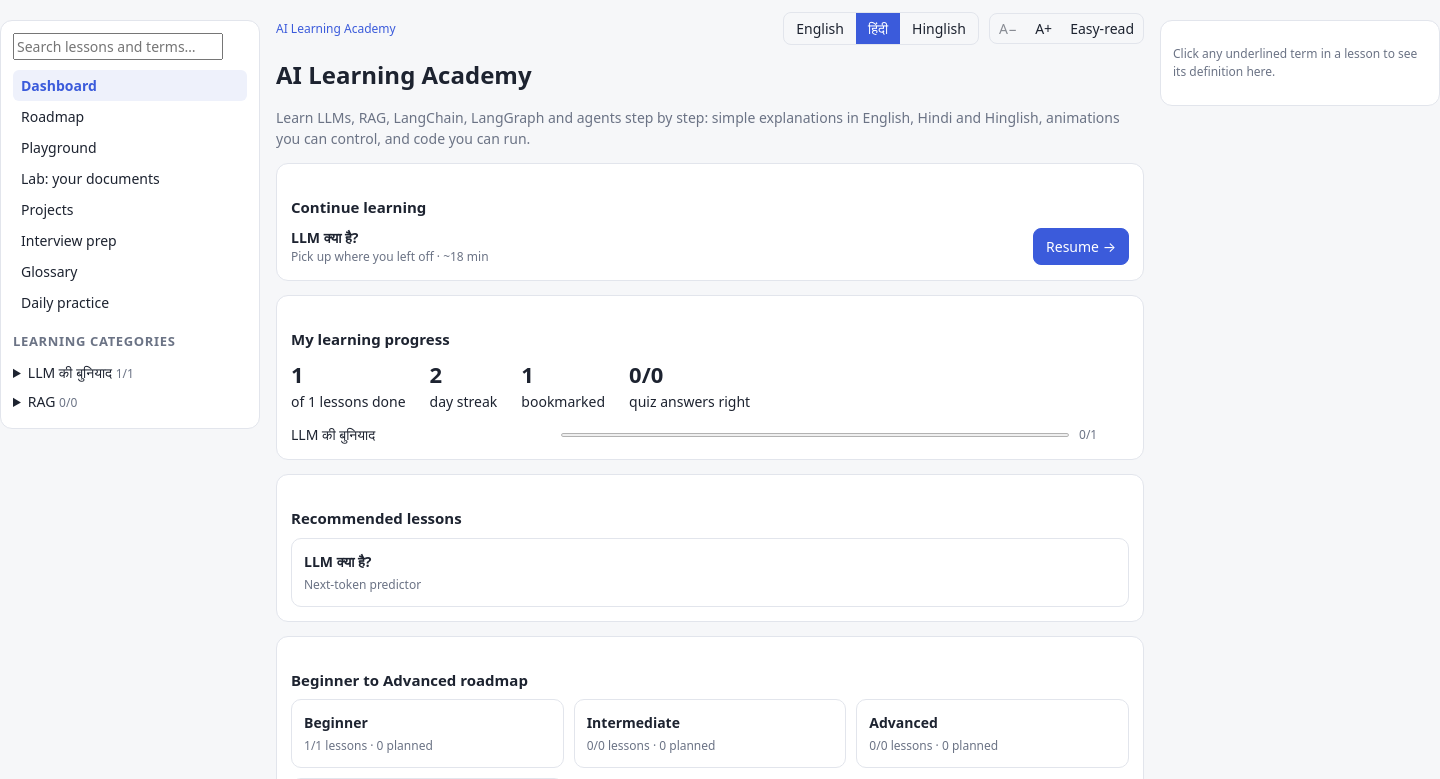
Scenario: Academy › remembers the chosen language and the lesson list reflects completion
Expected: the heading "AI Learning Academy" is shown, 276,58 -> 532,91
Click the heading "LLM की बुनियाद 1/1". click: (81, 372)
box: 28,362 -> 134,382
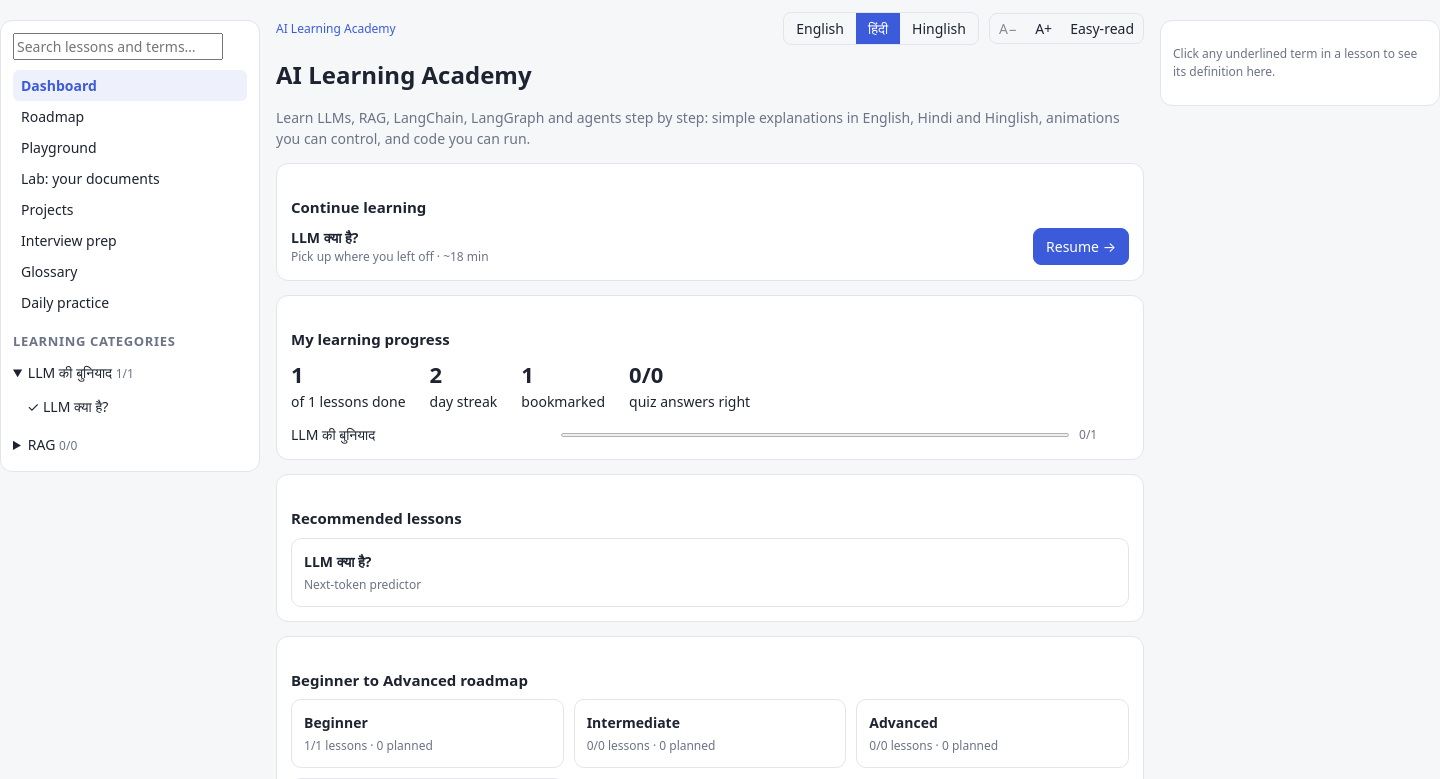
Expected: the button "✓ LLM क्या है?" is shown, 19,390 -> 247,422
